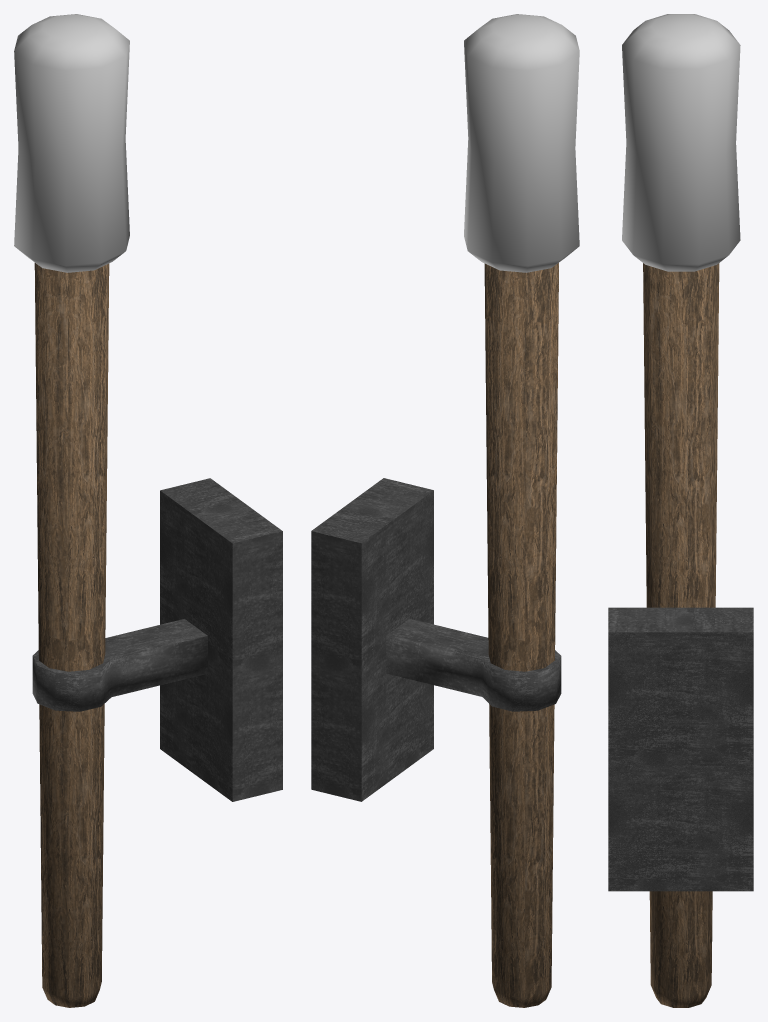
Rendered from Torch.fbx.
3 views of the same model, side by side, from view 1: azimuth 30°, elevation 25°; view 2: azimuth 150°, elevation 25°; view 3: azimuth 270°, elevation 25° (orthographic).
Parts seen in each view (by area): view 1: TorrchHolder, TorchIron, TorchRope; view 2: TorrchHolder, TorchIron, TorchRope; view 3: TorchIron, TorrchHolder, TorchRope.
Boxes of the visible parts, x1,y1,x2,y2 form: TorrchHolder: (34,263,109,1007); TorchIron: (32,478,282,801); TorchRope: (14,14,129,272); TorrchHolder: (484,263,558,1007); TorchIron: (311,478,561,801); TorchRope: (464,14,579,272); TorchIron: (608,607,753,891); TorrchHolder: (643,263,719,1007); TorchRope: (622,14,740,271).
Bounding box in the file's own units: 11.02 × 46.21 × 6.2.
